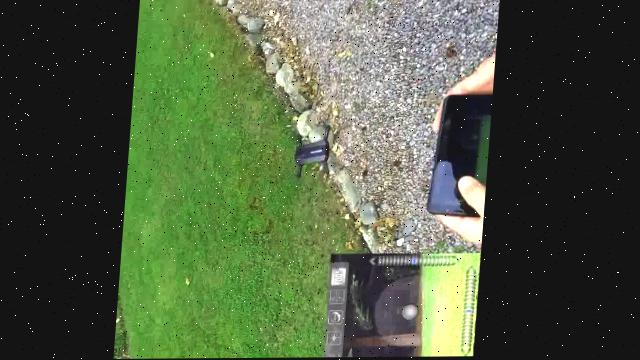drone: (278, 89, 350, 219)
